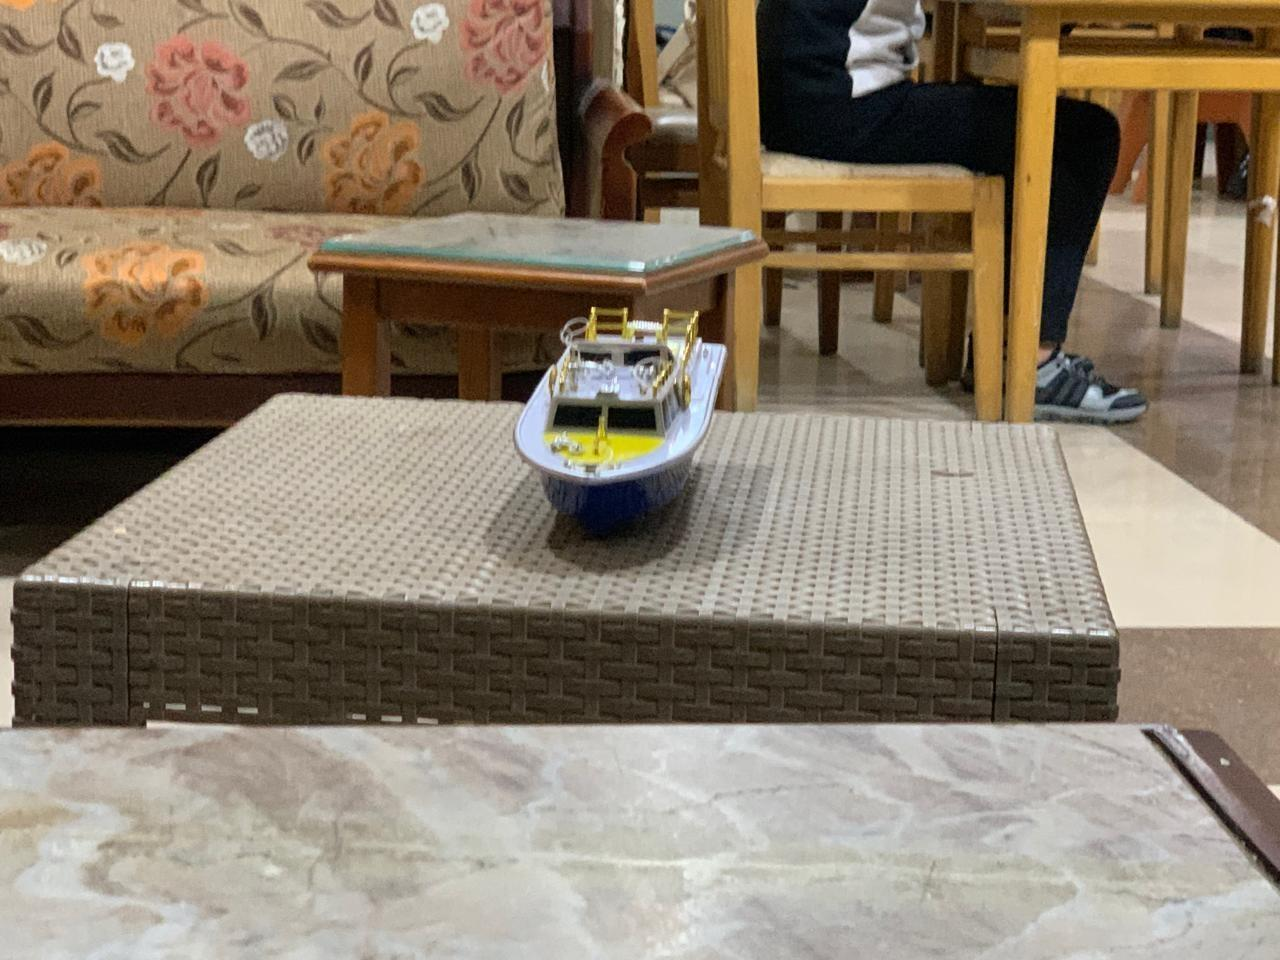Boat: (512, 299, 736, 536)
